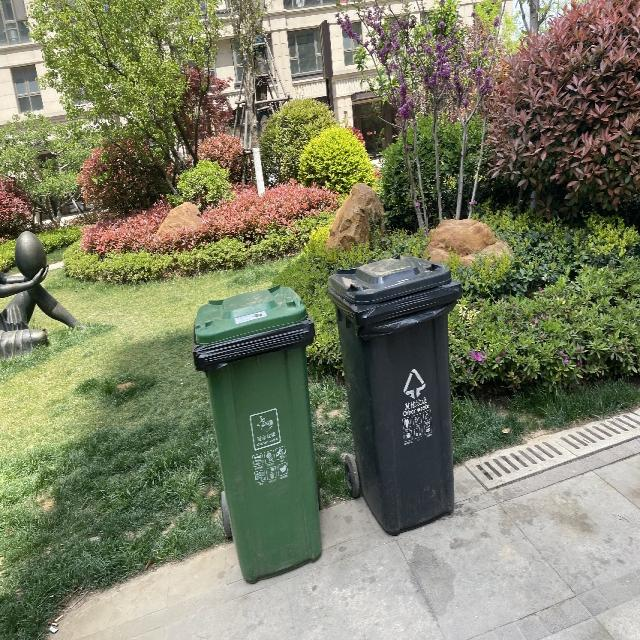garbage_bin: (191, 283, 322, 584), (325, 253, 461, 536)
